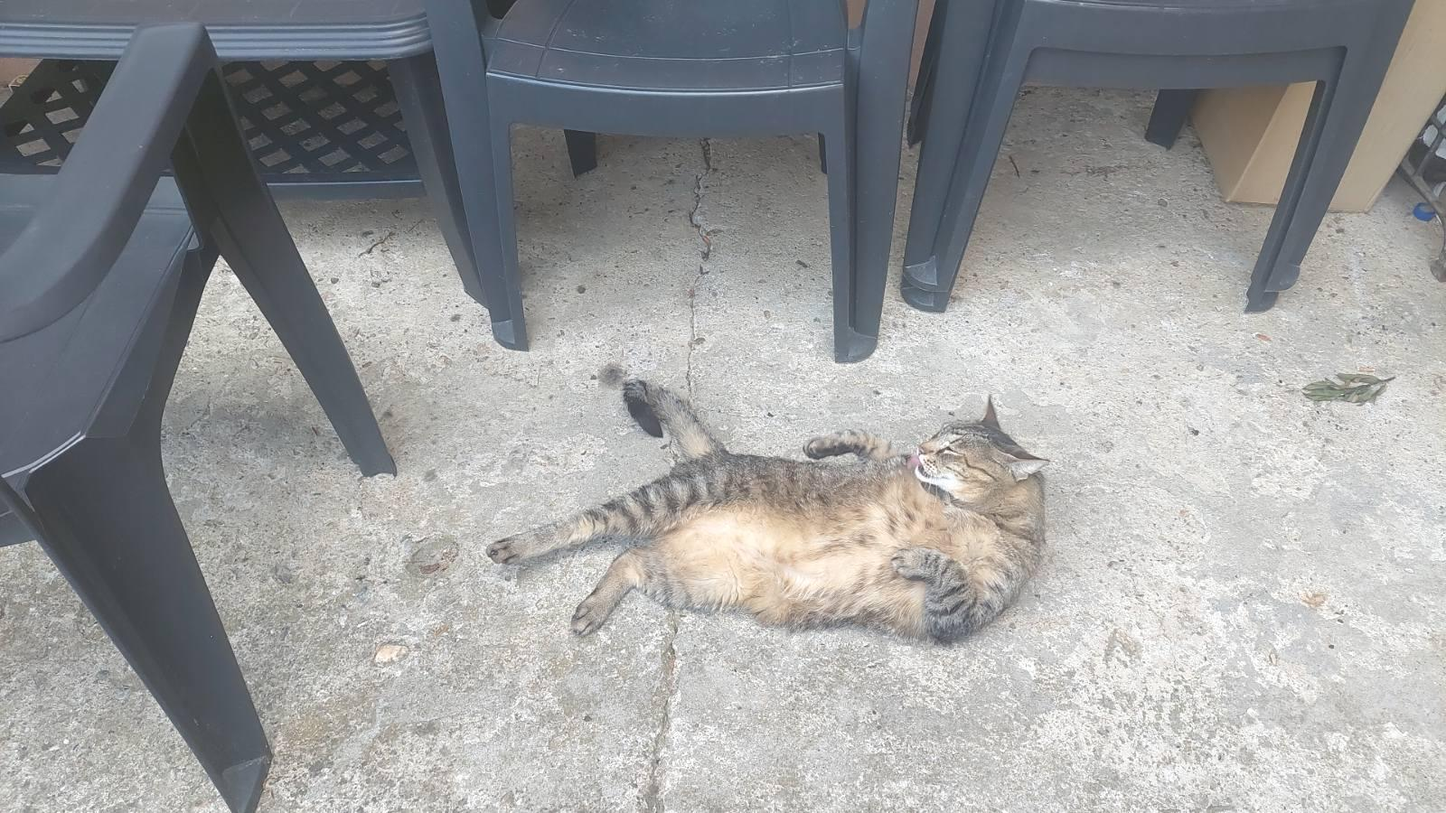macka: (485, 377, 1047, 646)
